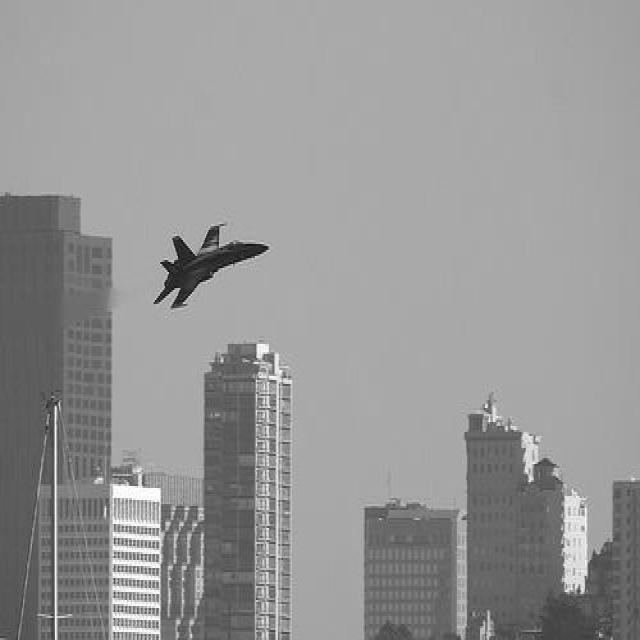aeroplane: (151, 218, 268, 308)
